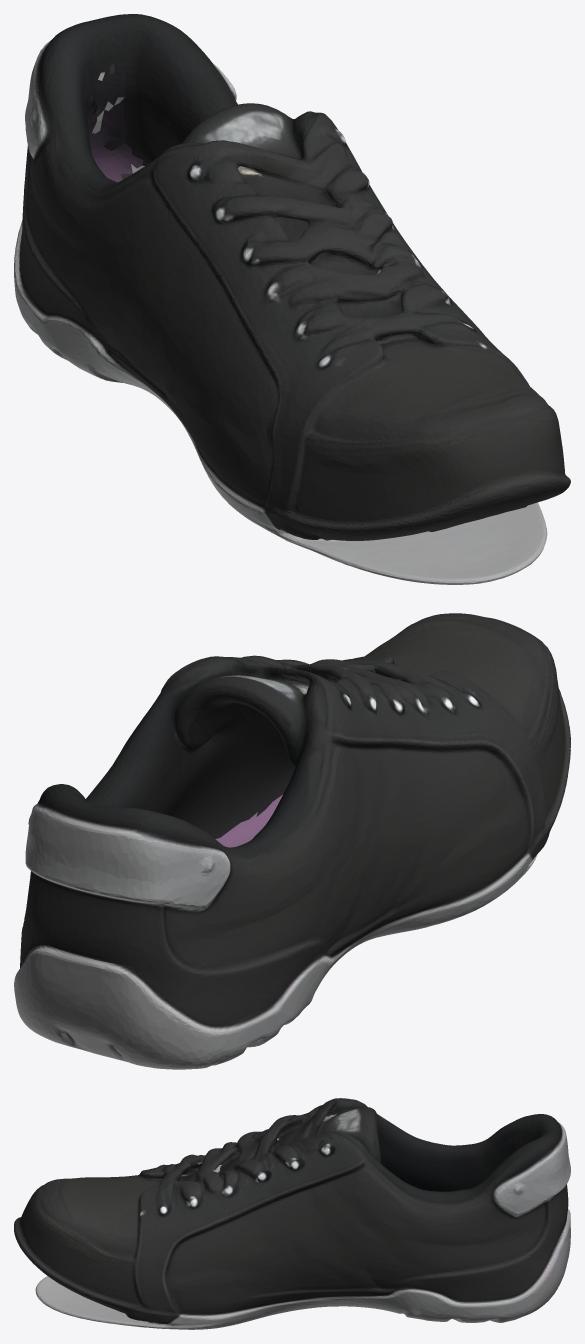
The model's file is f4b169da-6c82-4802-9d6d-16773c7d631a_result.glb.
3 renders of one model, top to bottom at view 1: azimuth 30°, elevation 25°; view 2: azimuth 150°, elevation 25°; view 3: azimuth 270°, elevation 25°, orthographic. The views are drawn at different scales.
Parts seen in each view (by area): view 1: tmplq3qrb9c.ply; view 2: tmplq3qrb9c.ply; view 3: tmplq3qrb9c.ply.
Boxes of the visible parts, bbox=[...] form: tmplq3qrb9c.ply: bbox=[14, 14, 570, 584]; tmplq3qrb9c.ply: bbox=[14, 613, 570, 1069]; tmplq3qrb9c.ply: bbox=[14, 1098, 570, 1329].
Size of the model in its own units: 0.6793 by 0.7289 by 1.96.
Materials: 1 (1 with a texture image).
